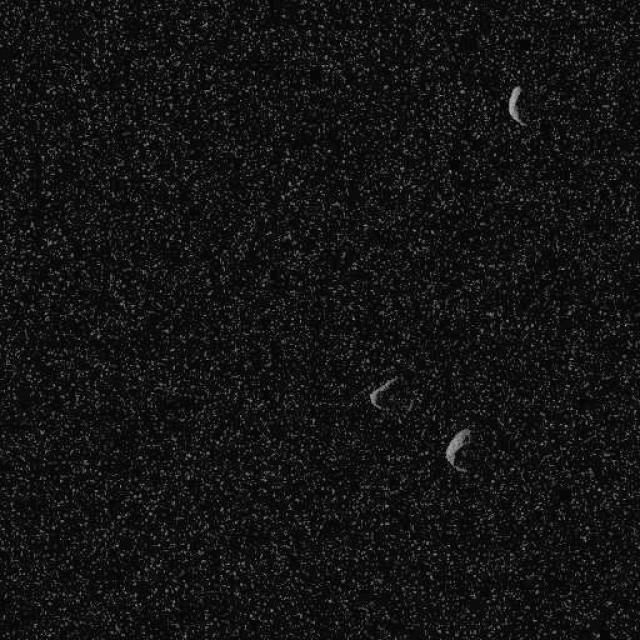D2: (443, 427, 472, 472), (368, 374, 398, 411), (507, 84, 528, 126)
